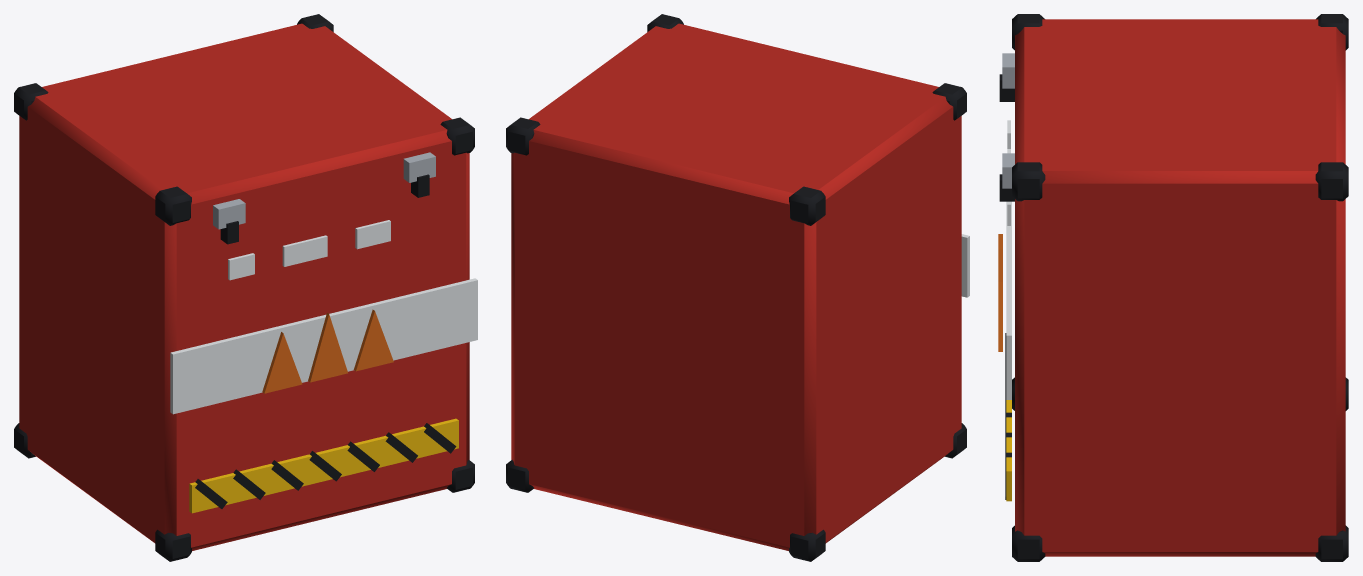
The model's file is crate_flammable_red.glb.
3 renders of one model, left to right at view 1: azimuth 30°, elevation 25°; view 2: azimuth 150°, elevation 25°; view 3: azimuth 270°, elevation 25°, orthographic. The views are drawn at different scales.
Parts seen in each view (by area): view 1: crate_flammable_red; view 2: crate_flammable_red; view 3: crate_flammable_red.
Part boxes in pixels (x1,y1,x2,y2): crate_flammable_red: (14, 14, 477, 561); crate_flammable_red: (506, 14, 969, 561); crate_flammable_red: (998, 14, 1348, 561).
Size of the model in its own units: 0.812 by 0.912 by 0.741.
